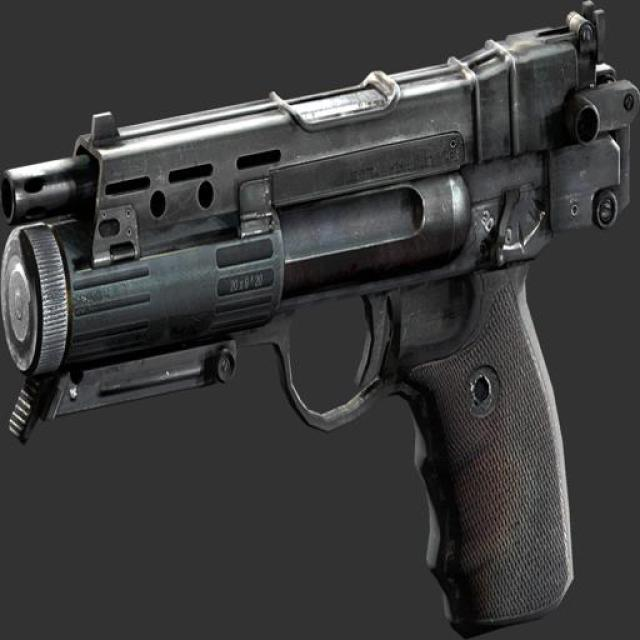pistol: (1, 2, 637, 635)
